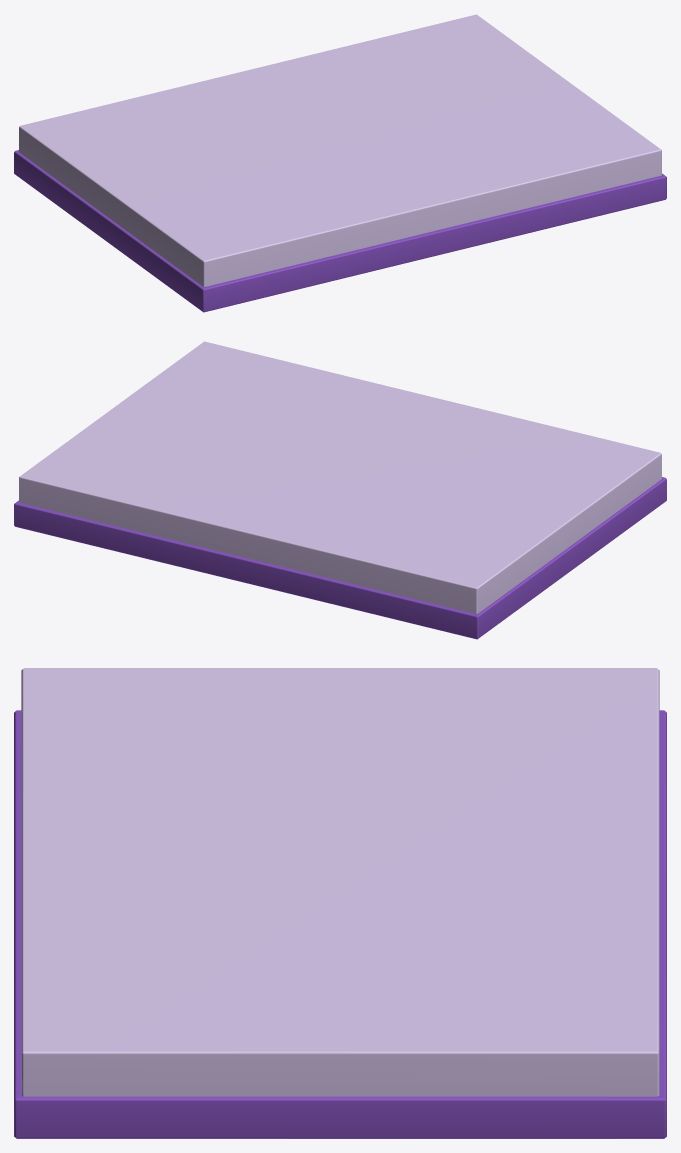
The model's file is Store_9_Base_1.glb.
The picture shows the model from 3 angles, top to bottom: view 1: azimuth 30°, elevation 25°; view 2: azimuth 150°, elevation 25°; view 3: azimuth 270°, elevation 25°; orthographic projection. The views are drawn at different scales.
Parts seen in each view (by area): view 1: Store_9_Base_1; view 2: Store_9_Base_1; view 3: Store_9_Base_1.
Boxes of the visible parts, box(x1,y1,x2,y2) form: Store_9_Base_1: box(14, 14, 666, 312); Store_9_Base_1: box(14, 341, 666, 639); Store_9_Base_1: box(14, 668, 666, 1138).
Bounding box in the file's own units: 15.81 × 1.62 × 11.19.
1 material, 1 textured.
